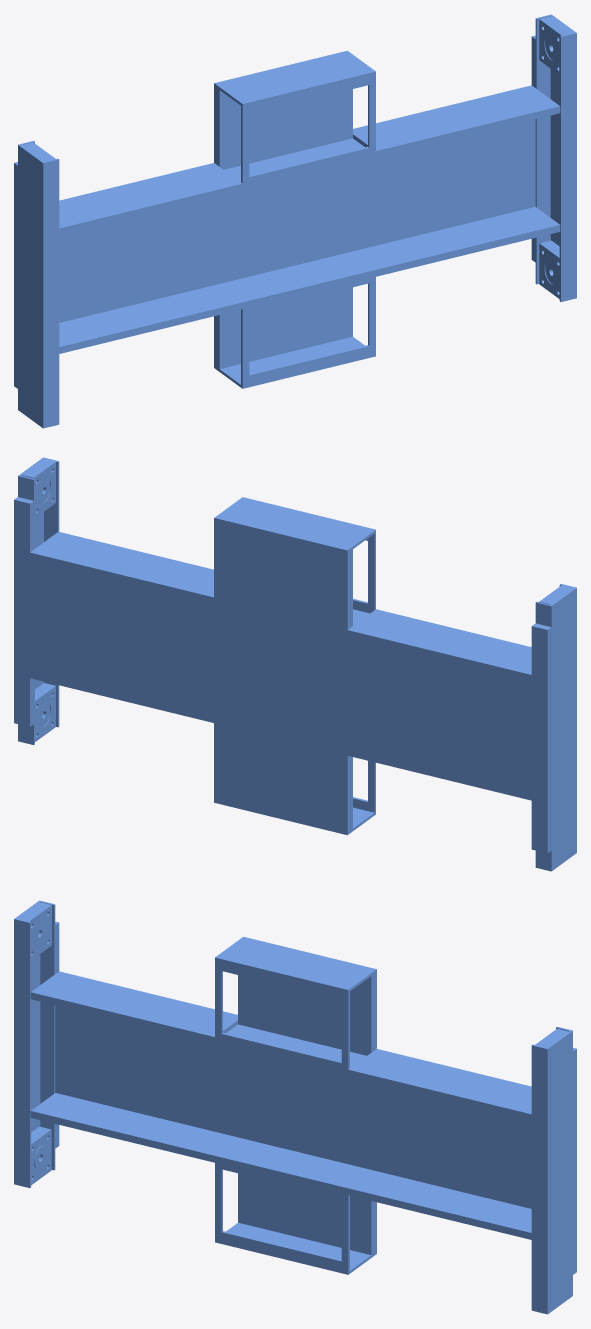
Rendered from polydog_Bodyvisual_vis_1.dae.
3 renders of one model, top to bottom at view 1: azimuth 30°, elevation 25°; view 2: azimuth 150°, elevation 25°; view 3: azimuth 330°, elevation 25°, orthographic.
Visible parts, largest first — view 1: Node_000002A5B508ABE0; view 2: Node_000002A5B508ABE0; view 3: Node_000002A5B508ABE0.
Part boxes in pixels (bbox=[...]): Node_000002A5B508ABE0: bbox=[14, 14, 576, 428]; Node_000002A5B508ABE0: bbox=[14, 457, 576, 871]; Node_000002A5B508ABE0: bbox=[14, 900, 576, 1314].
Size of the model in its own units: 0.4 by 0.204 by 0.038.
